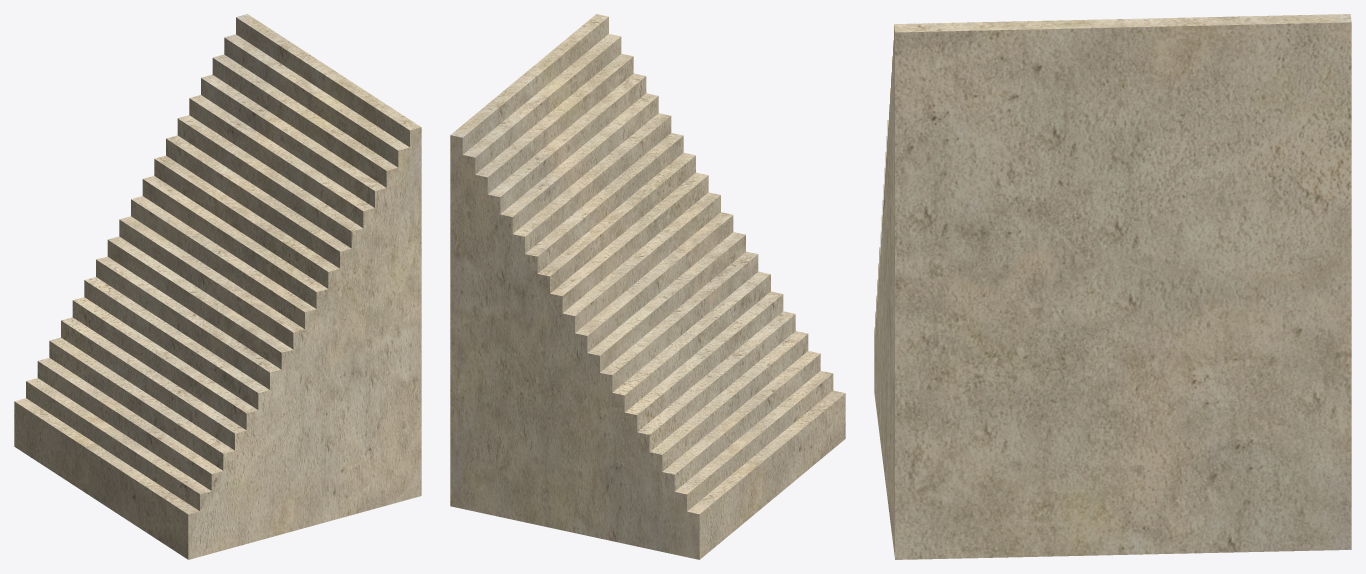
The model's file is concrete_26.fbx.
The picture shows the model from 3 angles, left to right: view 1: azimuth 30°, elevation 25°; view 2: azimuth 150°, elevation 25°; view 3: azimuth 270°, elevation 25°; orthographic projection. The views are drawn at different scales.
Parts seen in each view (by area): view 1: concrete_26; view 2: concrete_26; view 3: concrete_26.
Boxes of the visible parts, box(x1,y1,x2,y2) form: concrete_26: box(14, 14, 421, 559); concrete_26: box(450, 14, 845, 559); concrete_26: box(874, 14, 1351, 559).
Size of the model in its own units: 256 by 354 by 291.
